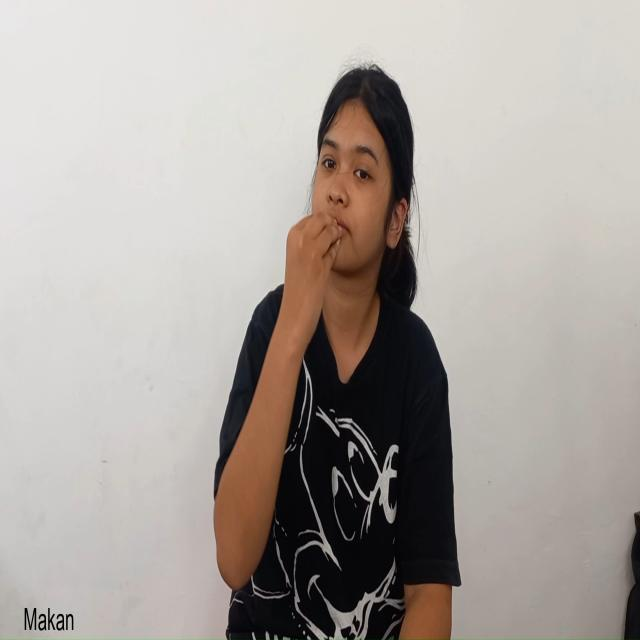Makan -BISINDO-: (280, 68, 408, 362)
